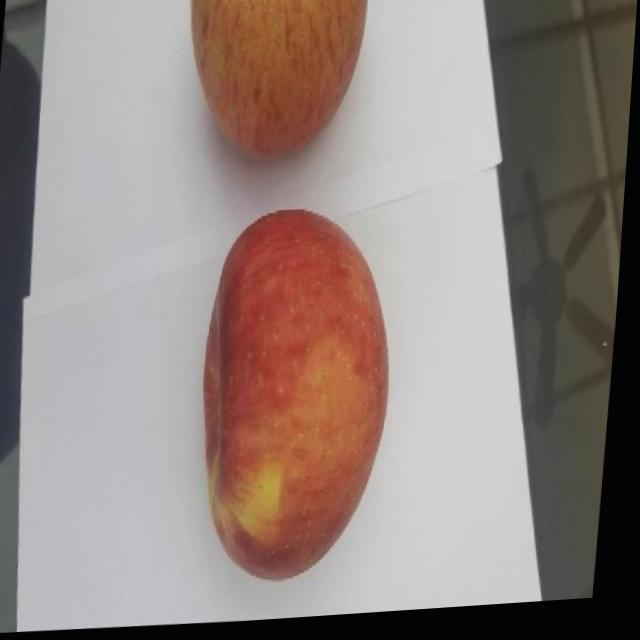Apple: (194, 206, 409, 593), (179, 0, 370, 171)
